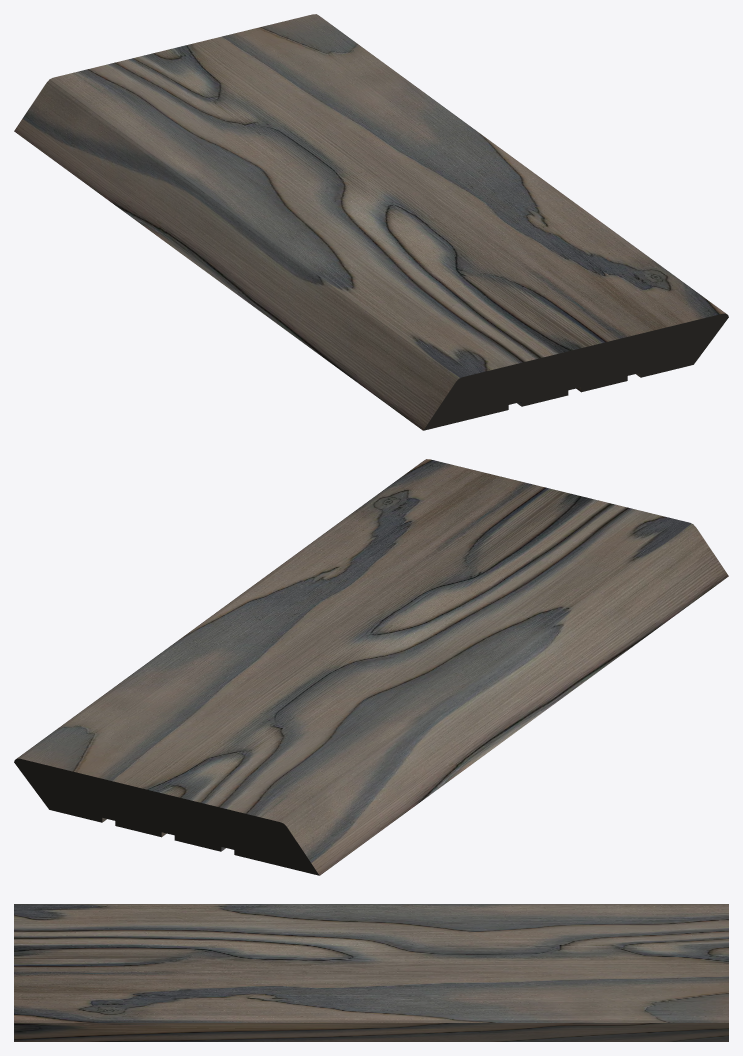
File: larch-facade-rhombus-latte.glb
3 renders of one model, top to bottom at view 1: azimuth 30°, elevation 25°; view 2: azimuth 150°, elevation 25°; view 3: azimuth 270°, elevation 25°, orthographic. The views are drawn at different scales.
Visible parts, largest first — view 1: Rombas; view 2: Rombas; view 3: Rombas.
Boxes of the visible parts, box(x1,y1,x2,y2) form: Rombas: box(14, 14, 728, 430); Rombas: box(14, 459, 728, 875); Rombas: box(14, 904, 728, 1041).
Size of the model in its own units: 0.0723 by 0.00995 by 0.1675.
3 materials, 1 textured.
